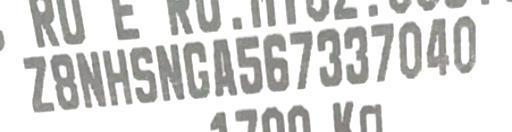letter: (72, 49, 108, 109), (20, 54, 56, 114), (152, 41, 186, 102), (99, 46, 133, 107), (47, 50, 81, 111), (340, 24, 372, 87), (180, 39, 212, 102), (286, 28, 316, 92), (450, 13, 480, 76), (260, 31, 290, 94), (234, 34, 264, 96), (210, 35, 240, 97), (128, 44, 158, 106), (314, 27, 344, 88), (423, 15, 451, 80), (368, 21, 396, 85), (396, 19, 424, 82)
